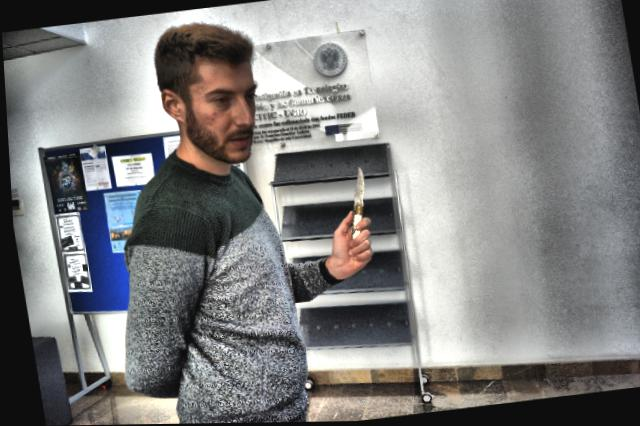knife: (333, 164, 375, 247)
